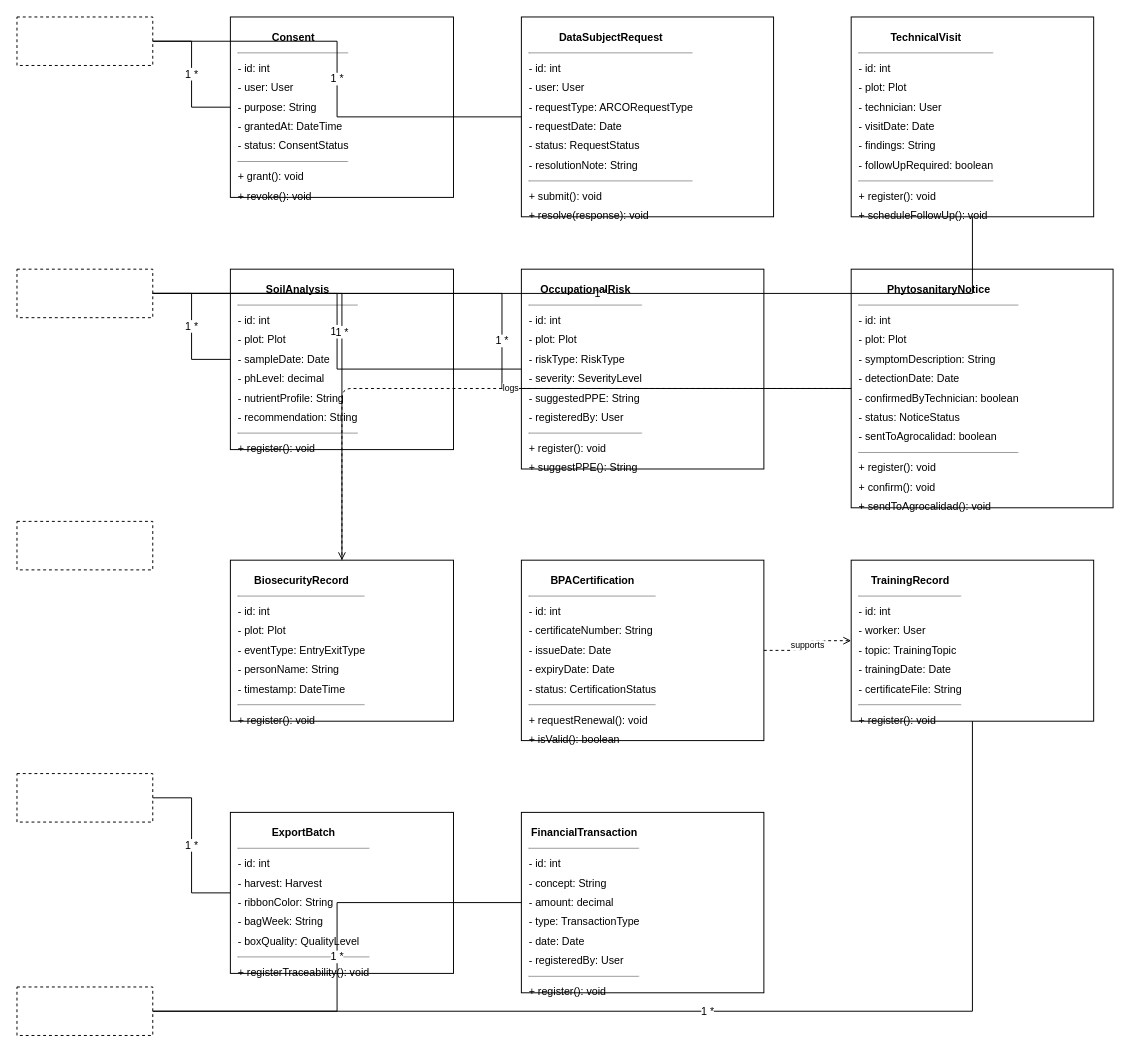
Image size: 1130x1052. Some labels were removed from this diagram. The centre of each missing label's shape, as x and y in pixels:
"Administrator (see CD01)" goes at [84,1010].
"Crop (see CD01)" goes at [84,545].
"Harvest (see CD01)" goes at [84,797].
"Plot (see CD01)" goes at [84,293].
"User (see CD01)" goes at [84,40].
